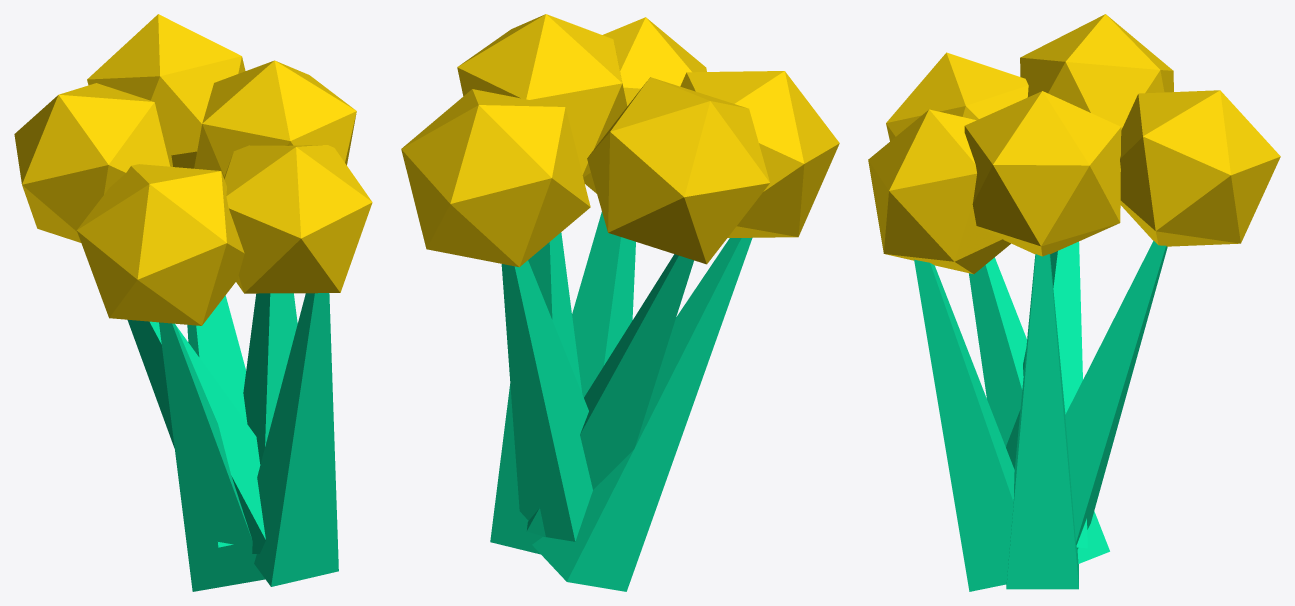
Rendered from FlowerBundle.fbx.
The picture shows the model from 3 angles, left to right: view 1: azimuth 30°, elevation 25°; view 2: azimuth 150°, elevation 25°; view 3: azimuth 270°, elevation 25°; orthographic projection. The views are drawn at different scales.
Parts seen in each view (by area): view 1: FlowerBundle; view 2: FlowerBundle; view 3: FlowerBundle.
Boxes of the visible parts, x1,y1,x2,y2 form: FlowerBundle: (14, 14, 372, 591); FlowerBundle: (401, 14, 839, 591); FlowerBundle: (868, 14, 1280, 591).
Bounding box in the file's own units: 6.61 × 10.76 × 7.86.
